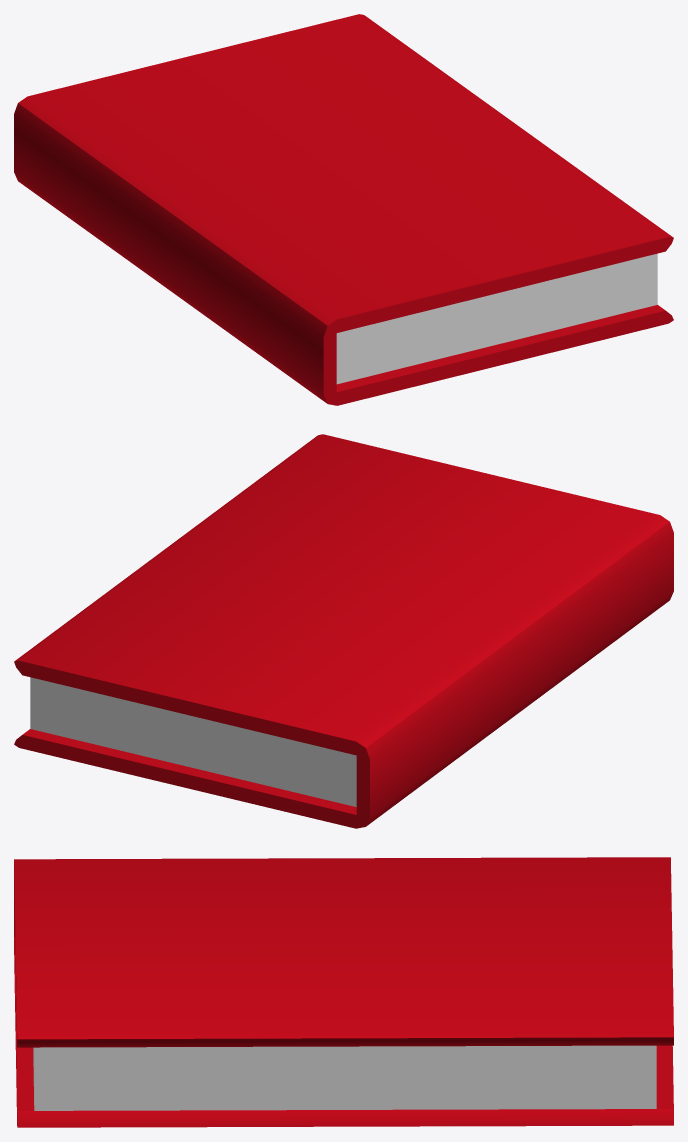
File: Book.fbx
3 views of the same model, one above another, from view 1: azimuth 30°, elevation 25°; view 2: azimuth 150°, elevation 25°; view 3: azimuth 270°, elevation 25° (orthographic). The views are drawn at different scales.
Parts seen in each view (by area): view 1: Book 0; view 2: Book 0; view 3: Book 0.
Boxes of the visible parts, x1,y1,x2,y2 form: Book 0: (14, 14, 673, 405); Book 0: (14, 434, 673, 828); Book 0: (14, 857, 673, 1127).
Bounding box in the file's own units: 123 × 28.59 × 184.
